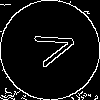V: (25, 25, 78, 71)
